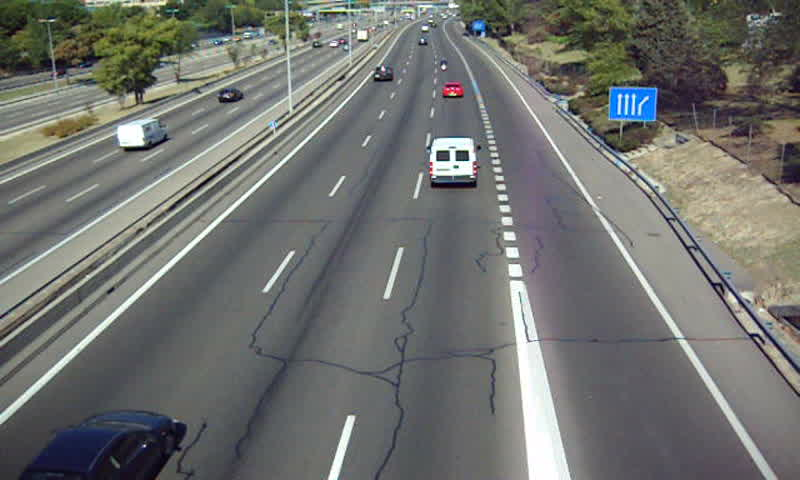car: (20, 412, 175, 480), (442, 82, 465, 99), (372, 66, 394, 83)
motorcycle: (437, 59, 450, 70)
van: (429, 137, 476, 186)
